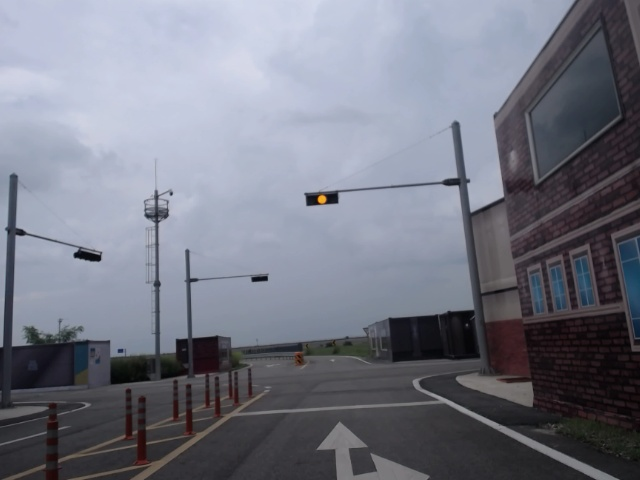orange_3: (305, 192, 338, 206)
